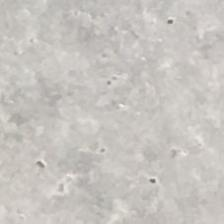Non_Crack: (26, 46, 204, 198)
